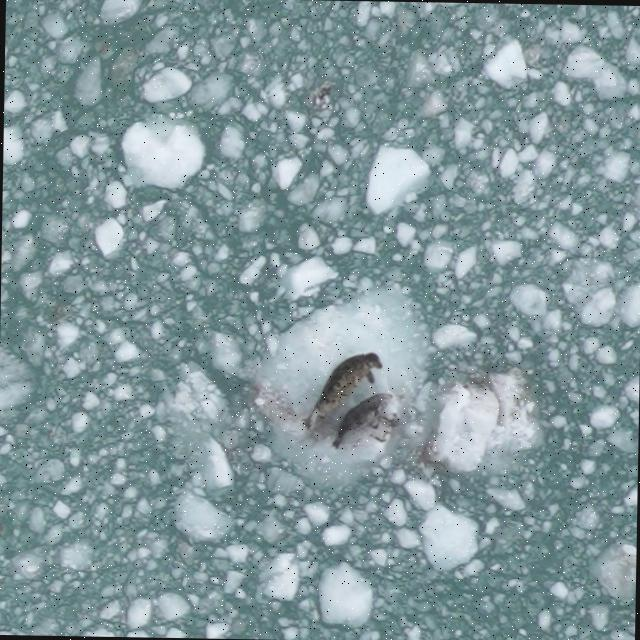seal: (298, 346, 386, 439), (330, 391, 394, 451)
